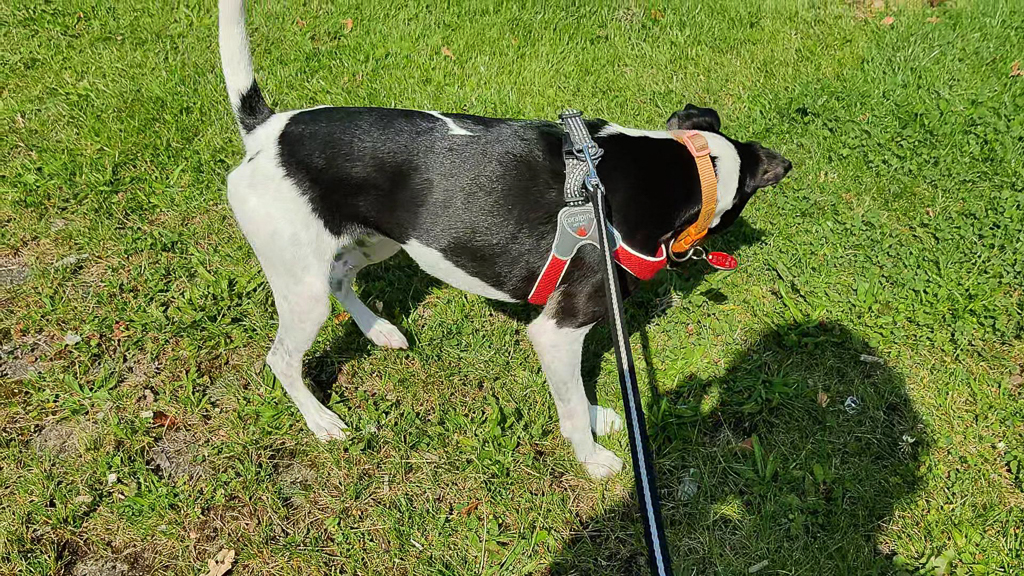Dog: (199, 0, 804, 492)
